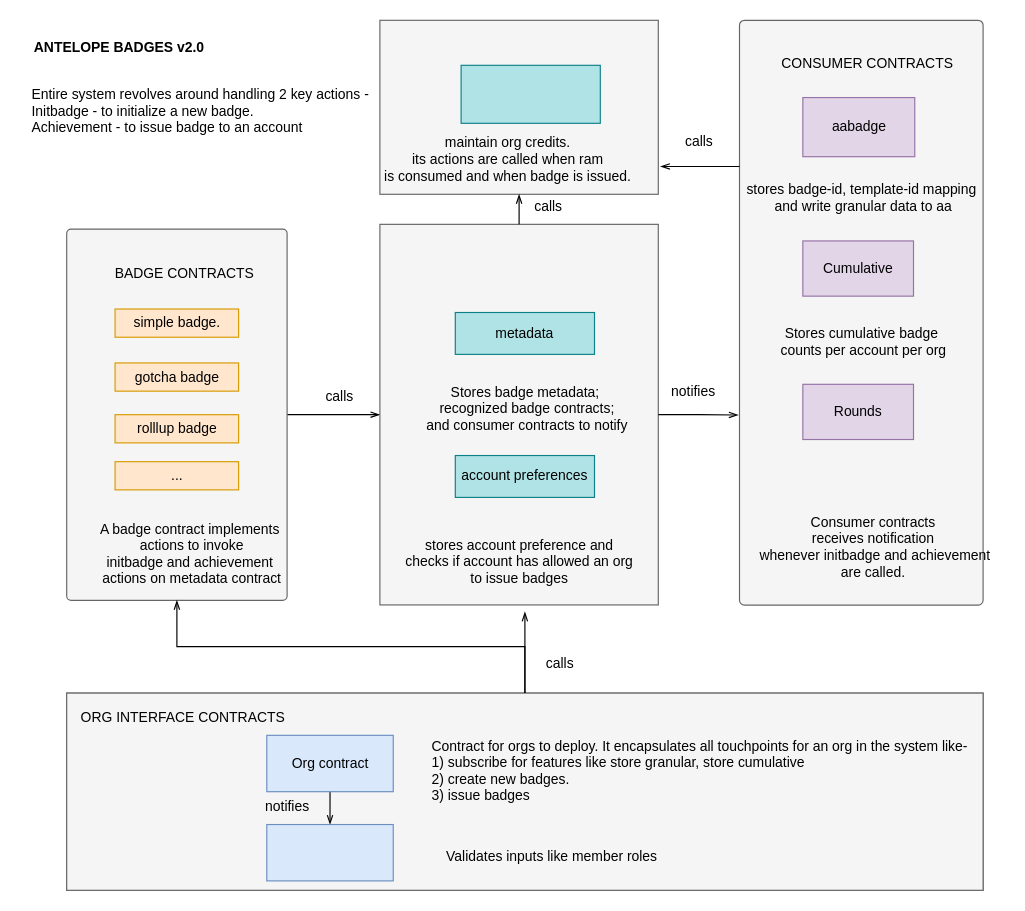
The diagram is 1025 pixels wide and 911 high, and some of its shapes have lost their labels. The shapes that lost their labels are listed below. From the top down, each one's centre as x and y in pixels, then its label:
At point (530, 93): "billing".
At point (329, 852): "Org roles.".
